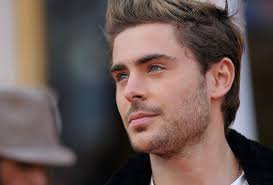noMask: (93, 2, 243, 152)
